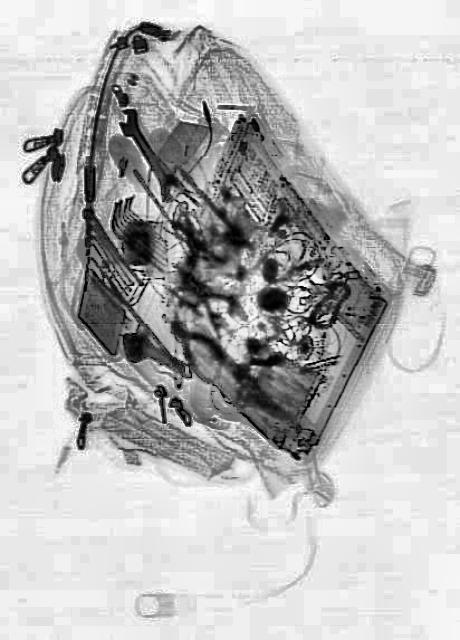Pliers: (160, 304, 226, 386)
Wrench: (110, 100, 184, 206)
